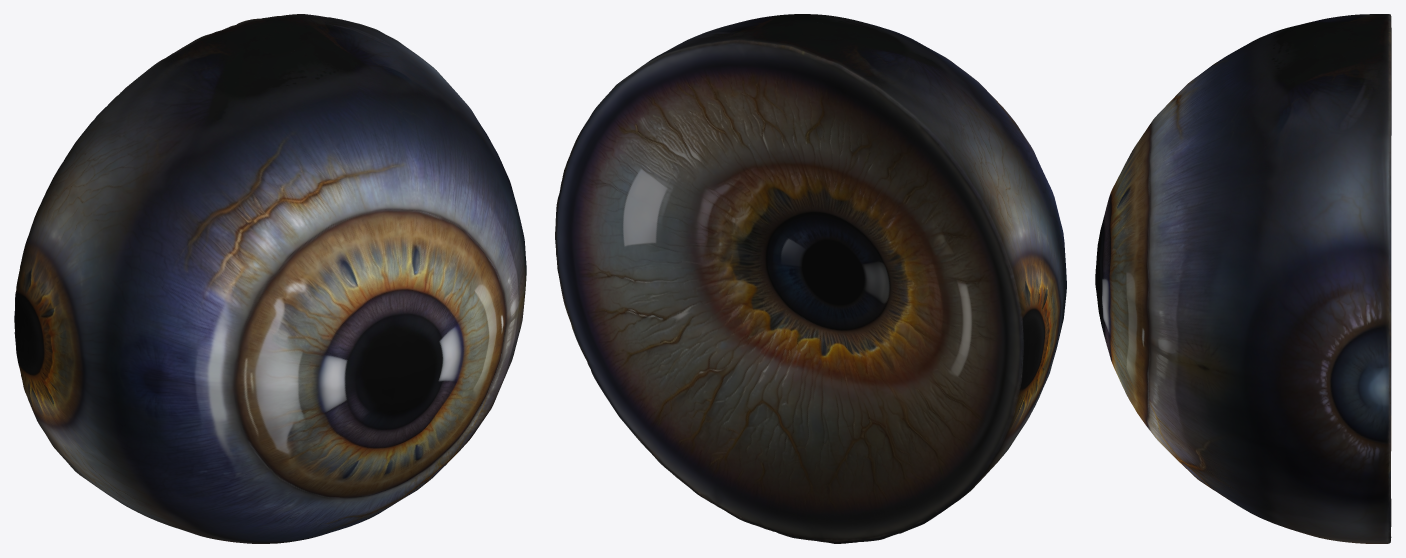
3 views of the same model, side by side, from view 1: azimuth 30°, elevation 25°; view 2: azimuth 150°, elevation 25°; view 3: azimuth 270°, elevation 25° (orthographic).
Parts seen in each view (by area): view 1: Mesh1.0; view 2: Mesh1.0; view 3: Mesh1.0.
Boxes of the visible parts, x1,y1,x2,y2 form: Mesh1.0: (14,14,526,543); Mesh1.0: (555,14,1066,543); Mesh1.0: (1095,14,1391,543).
Size of the model in its own units: 201 by 201 by 112.
1 material, 1 textured.
